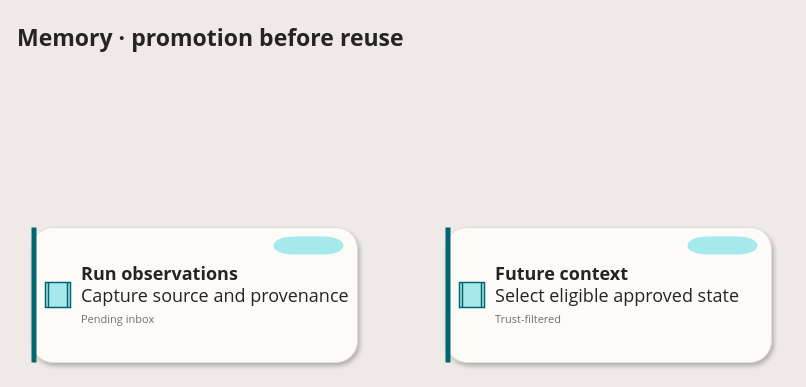
Some shapes in this 806 by 387 pixel diagram are drawn without their labels. The shapes that lost their labels are listed below. From the top down, each one's centre as x and y in pixels, then its label:
the point at 308,245: SCOPE
the point at 722,245: RESULT
